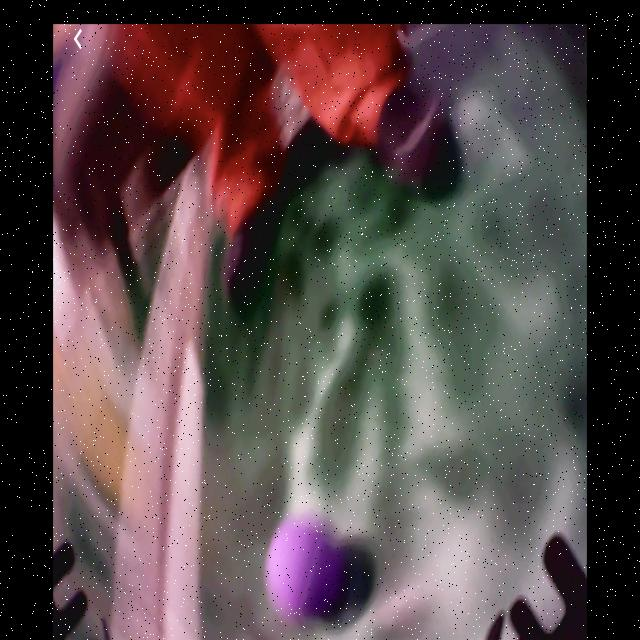ball: (266, 524, 338, 619)
